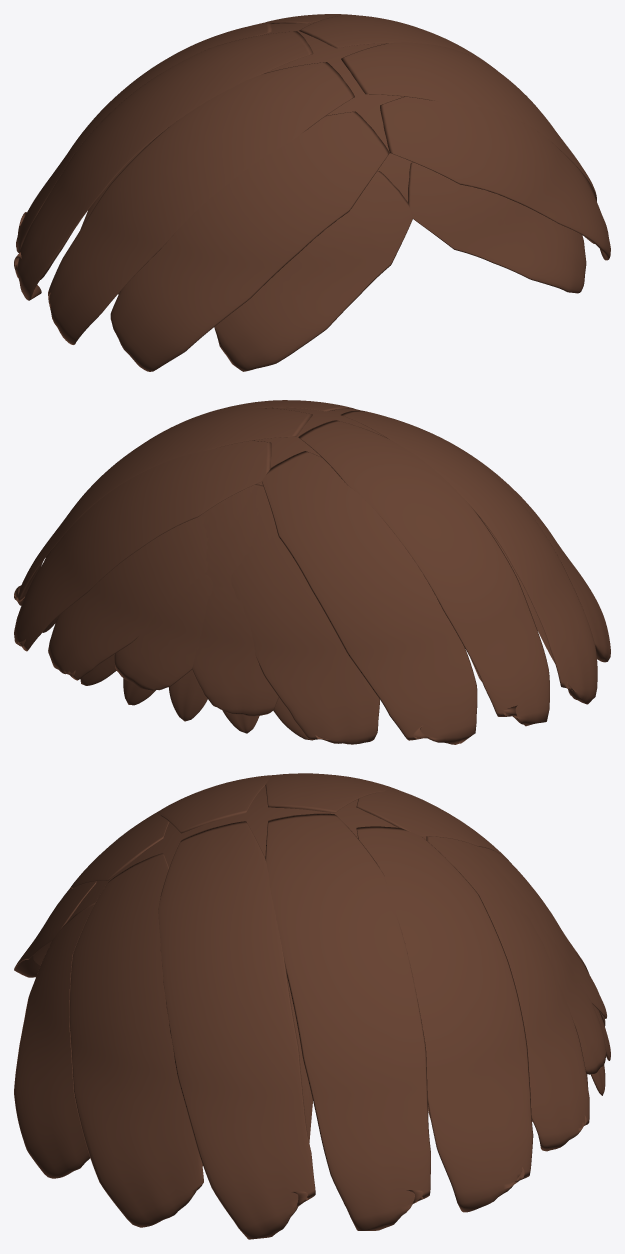
Rendered from Masculine-middle-part-beanie261-hair.glb.
3 renders of one model, top to bottom at view 1: azimuth 30°, elevation 25°; view 2: azimuth 150°, elevation 25°; view 3: azimuth 270°, elevation 25°, orthographic. The views are drawn at different scales.
Visible parts, largest first — view 1: 226 hair / Hair260 / layered middle-part; view 2: 226 hair / Hair260 / layered middle-part; view 3: 226 hair / Hair260 / layered middle-part.
Part boxes in pixels (<box>): 226 hair / Hair260 / layered middle-part: <box>14,14,610,371</box>; 226 hair / Hair260 / layered middle-part: <box>14,400,610,744</box>; 226 hair / Hair260 / layered middle-part: <box>14,773,610,1239</box>.
Size of the model in its own units: 0.992 by 0.4101 by 0.7914.
